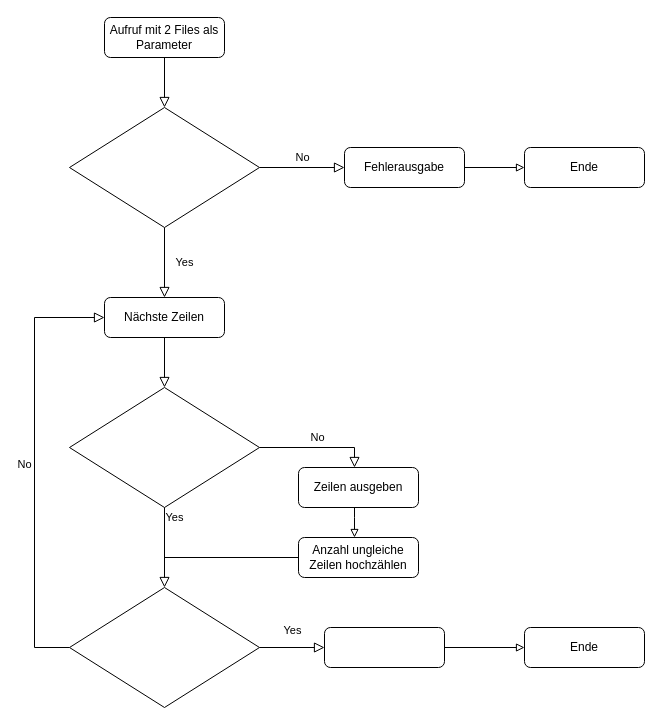
The diagram is 662 pixels wide and 725 high, and some of its shapes have lost their labels. Here are the shapes that lost their labels. From the top down, the centre of each, then its label:
the point at 164,167: File existiert/isFile/notEmpty
the point at 164,447: Sind Zeilen Equals
the point at 164,647: Letzte Zeilen
the point at 384,647: Anzahl ungleiche Zeilen ausgeben
